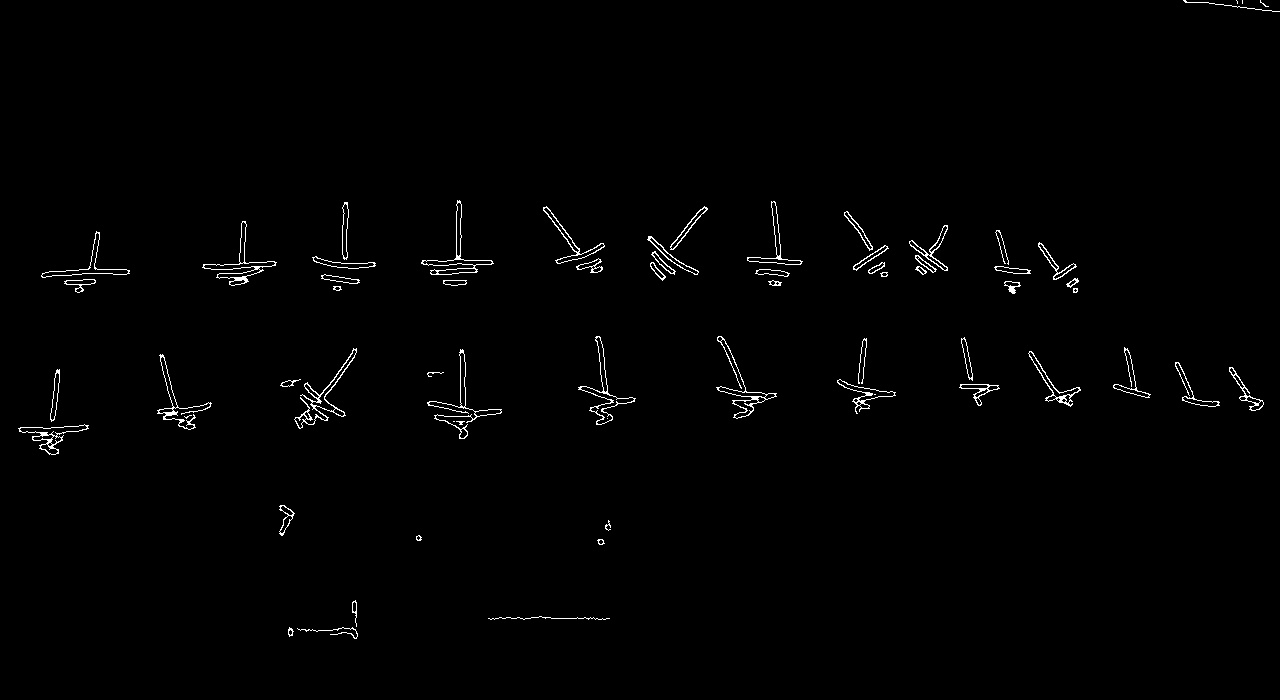ground0: (8, 405, 98, 496), (261, 379, 348, 467), (425, 388, 505, 483), (571, 373, 642, 467), (828, 368, 903, 454), (151, 390, 215, 487), (713, 378, 783, 459)
ground1: (417, 238, 498, 326), (36, 257, 134, 322), (551, 234, 629, 308), (197, 245, 282, 312), (309, 242, 382, 319), (634, 229, 702, 309), (743, 243, 810, 317), (898, 237, 956, 313), (847, 236, 900, 310), (984, 256, 1036, 317), (1046, 259, 1091, 322)
ground2: (1032, 379, 1090, 453), (951, 370, 1005, 444), (1104, 372, 1158, 442), (1176, 386, 1226, 448), (1234, 382, 1277, 445)
